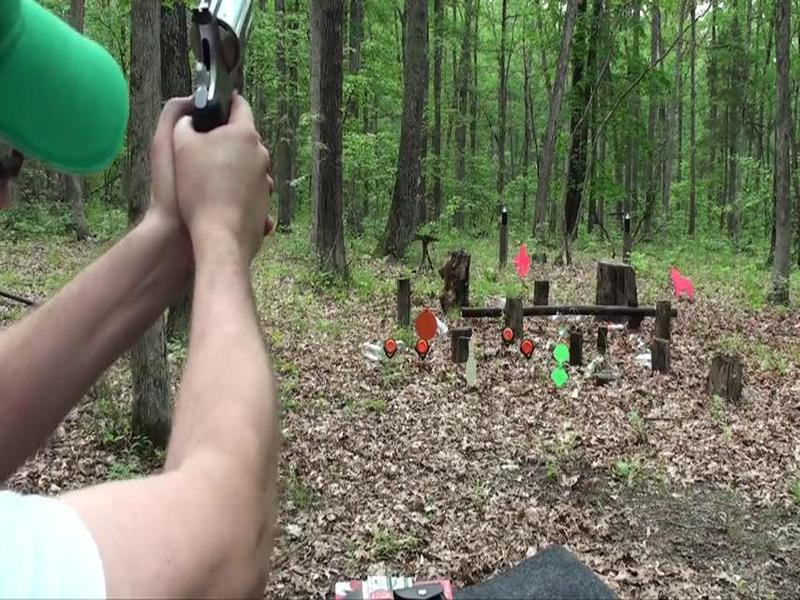Revolver: (156, 1, 326, 152)
